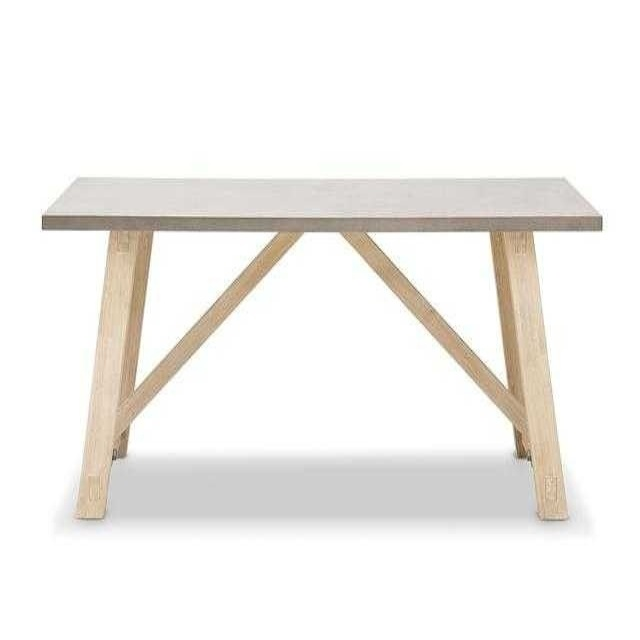obstacle: (42, 179, 601, 518)
